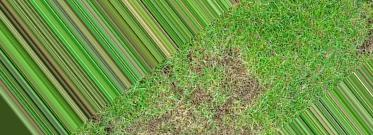patch: (224, 58, 250, 87), (181, 87, 206, 115), (228, 101, 251, 124), (138, 109, 154, 125)
